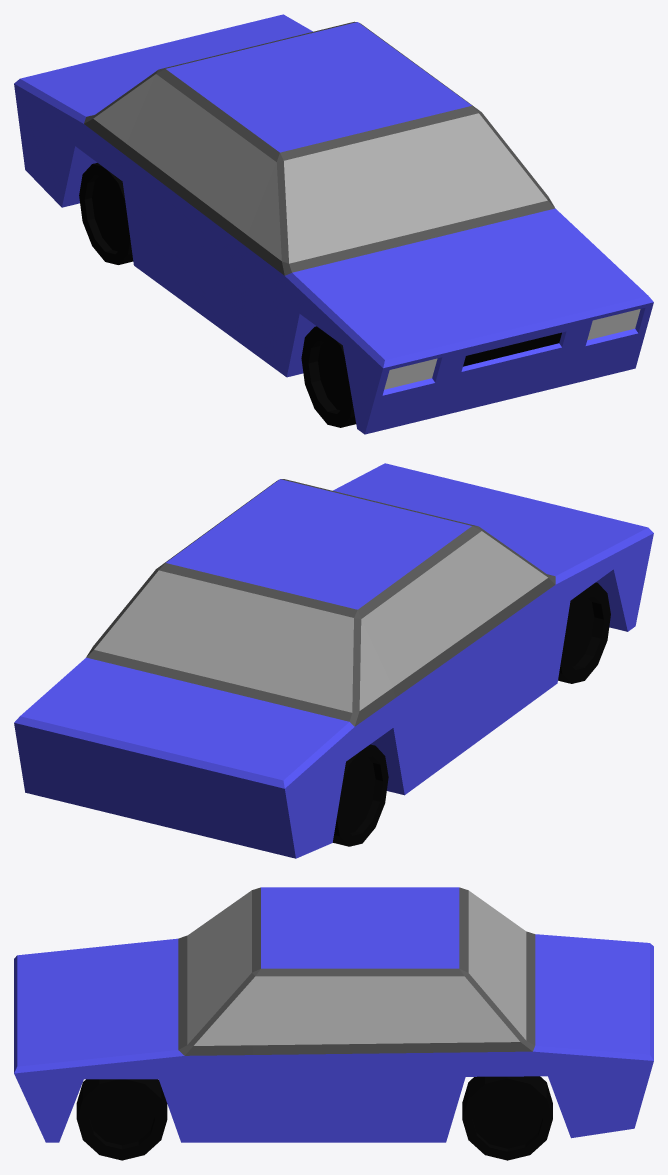
The model's file is Car1.fbx.
3 renders of one model, top to bottom at view 1: azimuth 30°, elevation 25°; view 2: azimuth 150°, elevation 25°; view 3: azimuth 270°, elevation 25°, orthographic. The views are drawn at different scales.
Visible parts, largest first — view 1: Car1; view 2: Car1; view 3: Car1.
Part boxes in pixels (x1=…): Car1: x1=14, y1=14, x2=653, y2=434; Car1: x1=14, y1=463, x2=653, y2=858; Car1: x1=14, y1=887, x2=653, y2=1160.
Bounding box in the file's own units: 113 × 81.6 × 266.
